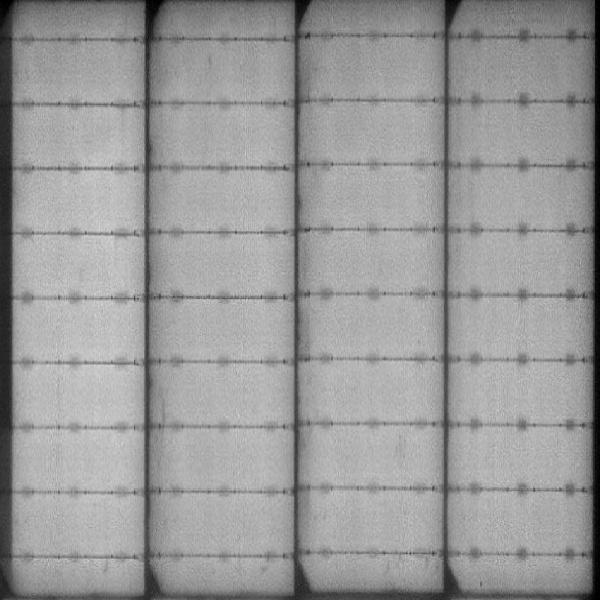black_border: (1, 15, 18, 579)
